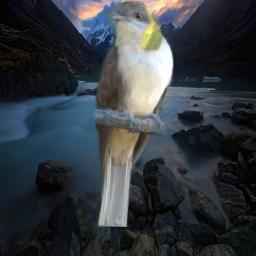Cuckoo: (91, 1, 174, 227)
